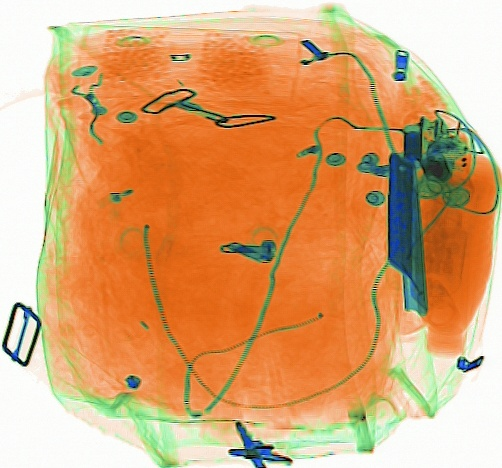knife: (385, 150, 414, 276)
